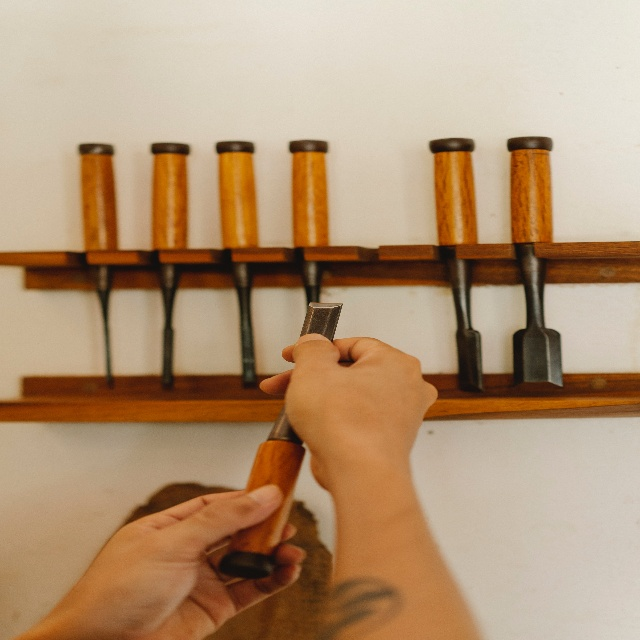Sin_guantes: (61, 484, 307, 640), (259, 333, 438, 494)
